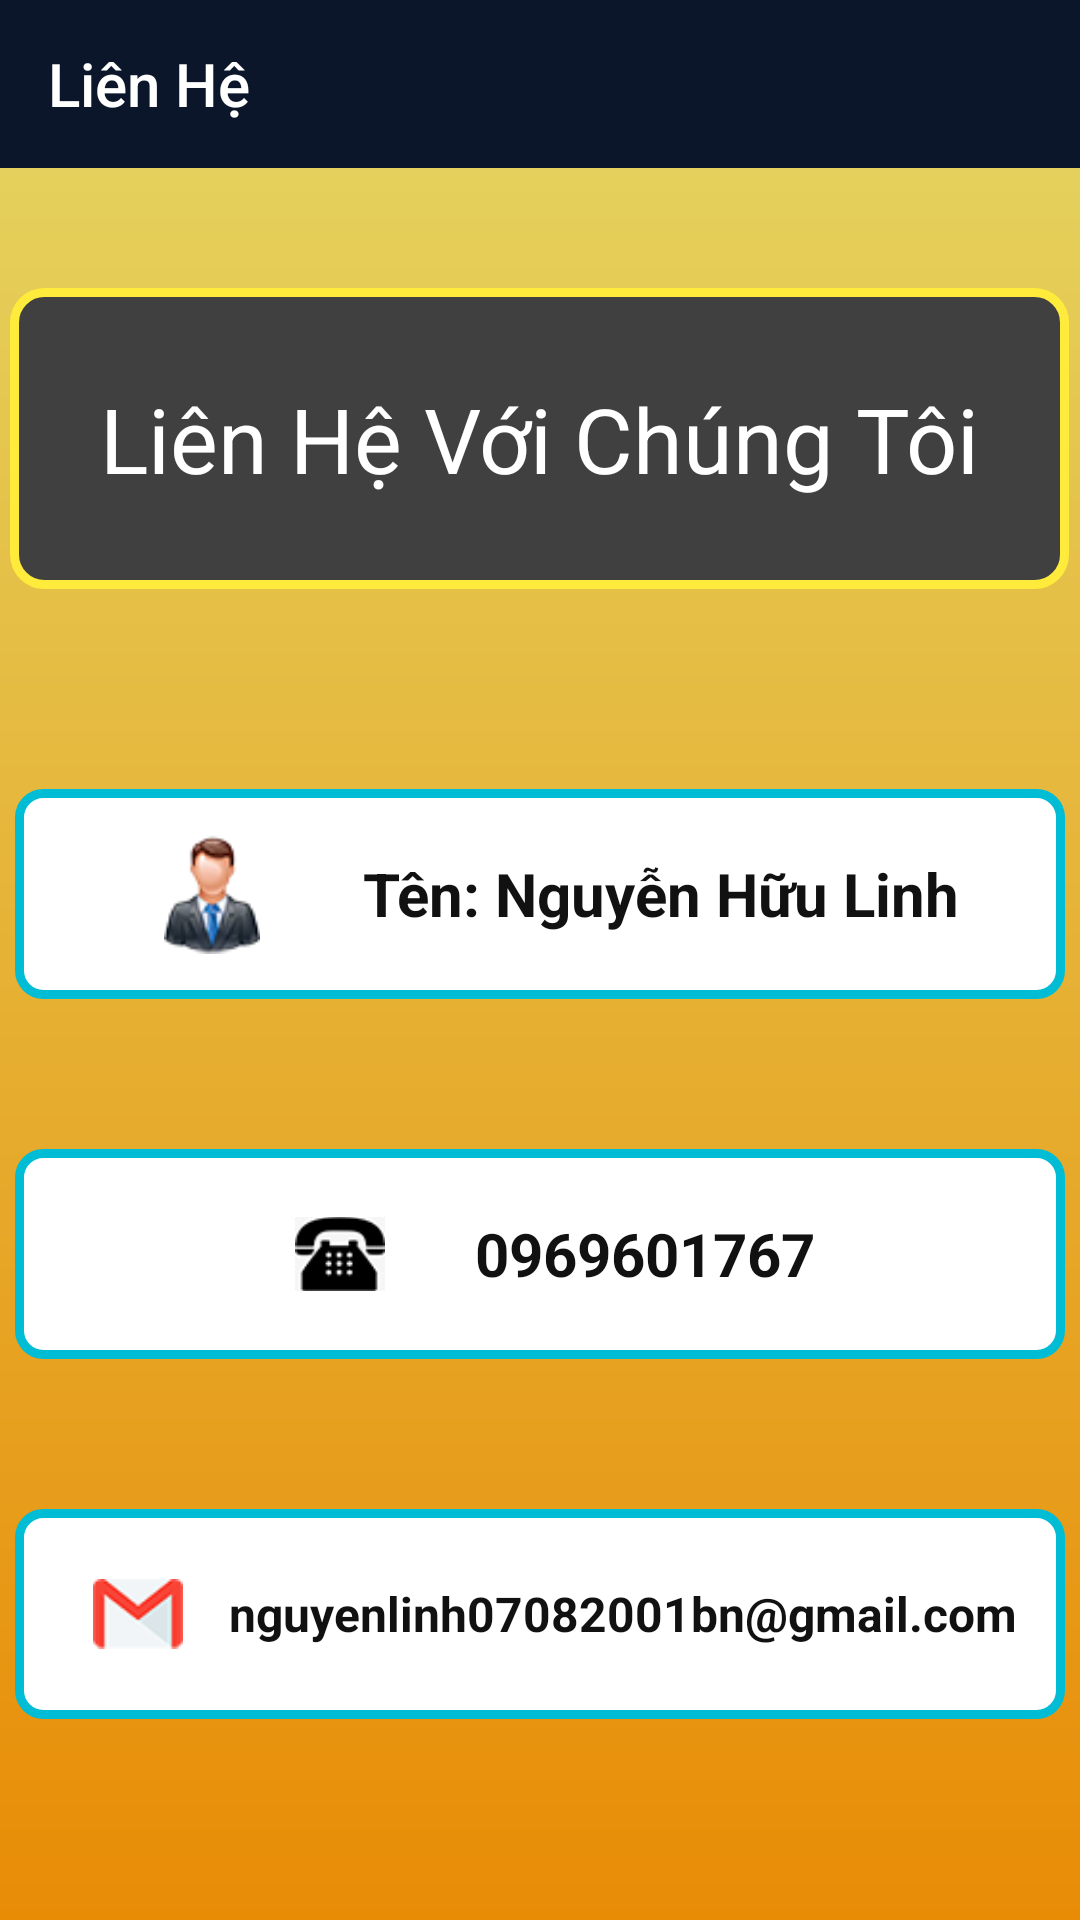

Locate icon controls on the screen. Image size 1080x1920, boxes as (x1, y1, x2, y2).
phone: (295, 1217, 385, 1291)
user: (164, 836, 260, 954)
